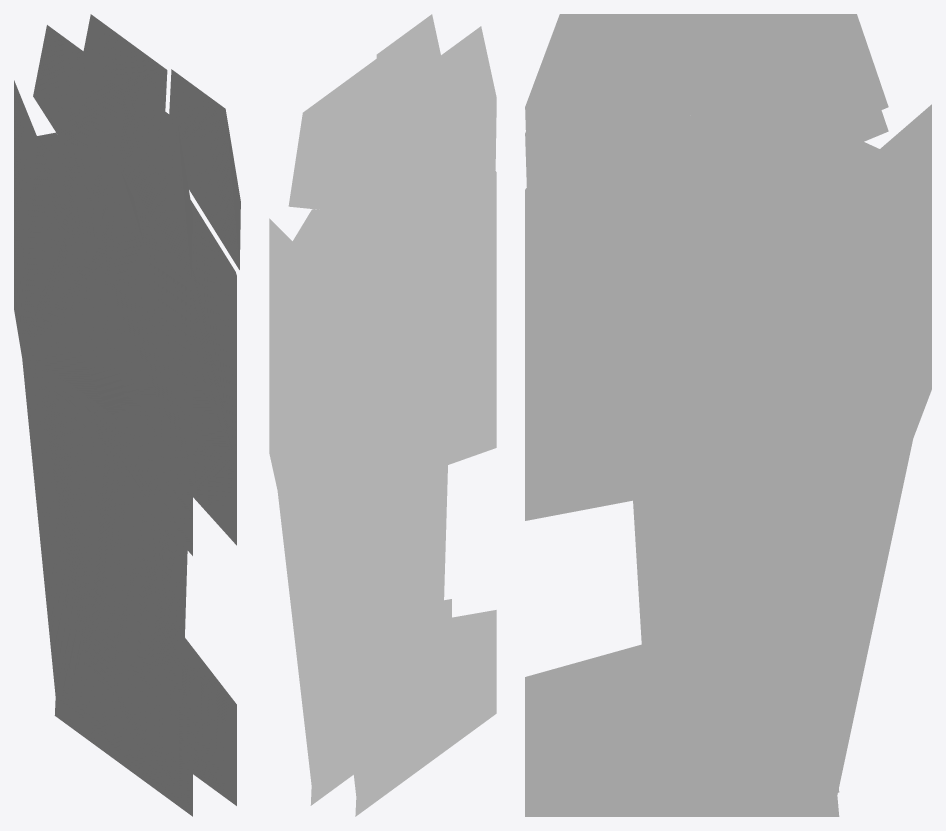
File: vegascowboy3.obj
The picture shows the model from 3 angles, left to right: view 1: azimuth 30°, elevation 25°; view 2: azimuth 150°, elevation 25°; view 3: azimuth 270°, elevation 25°; orthographic projection. The views are drawn at different scales.
Parts seen in each view (by area): view 1: vegascowboy3; view 2: vegascowboy3; view 3: vegascowboy3.
Part boxes in pixels (x1,y1,x2,y2): vegascowboy3: (14, 14, 240, 816); vegascowboy3: (269, 14, 496, 816); vegascowboy3: (525, 14, 931, 816).
Bounding box in the file's own units: 2.38 × 32.38 × 15.34.
2 materials, 2 textured.
